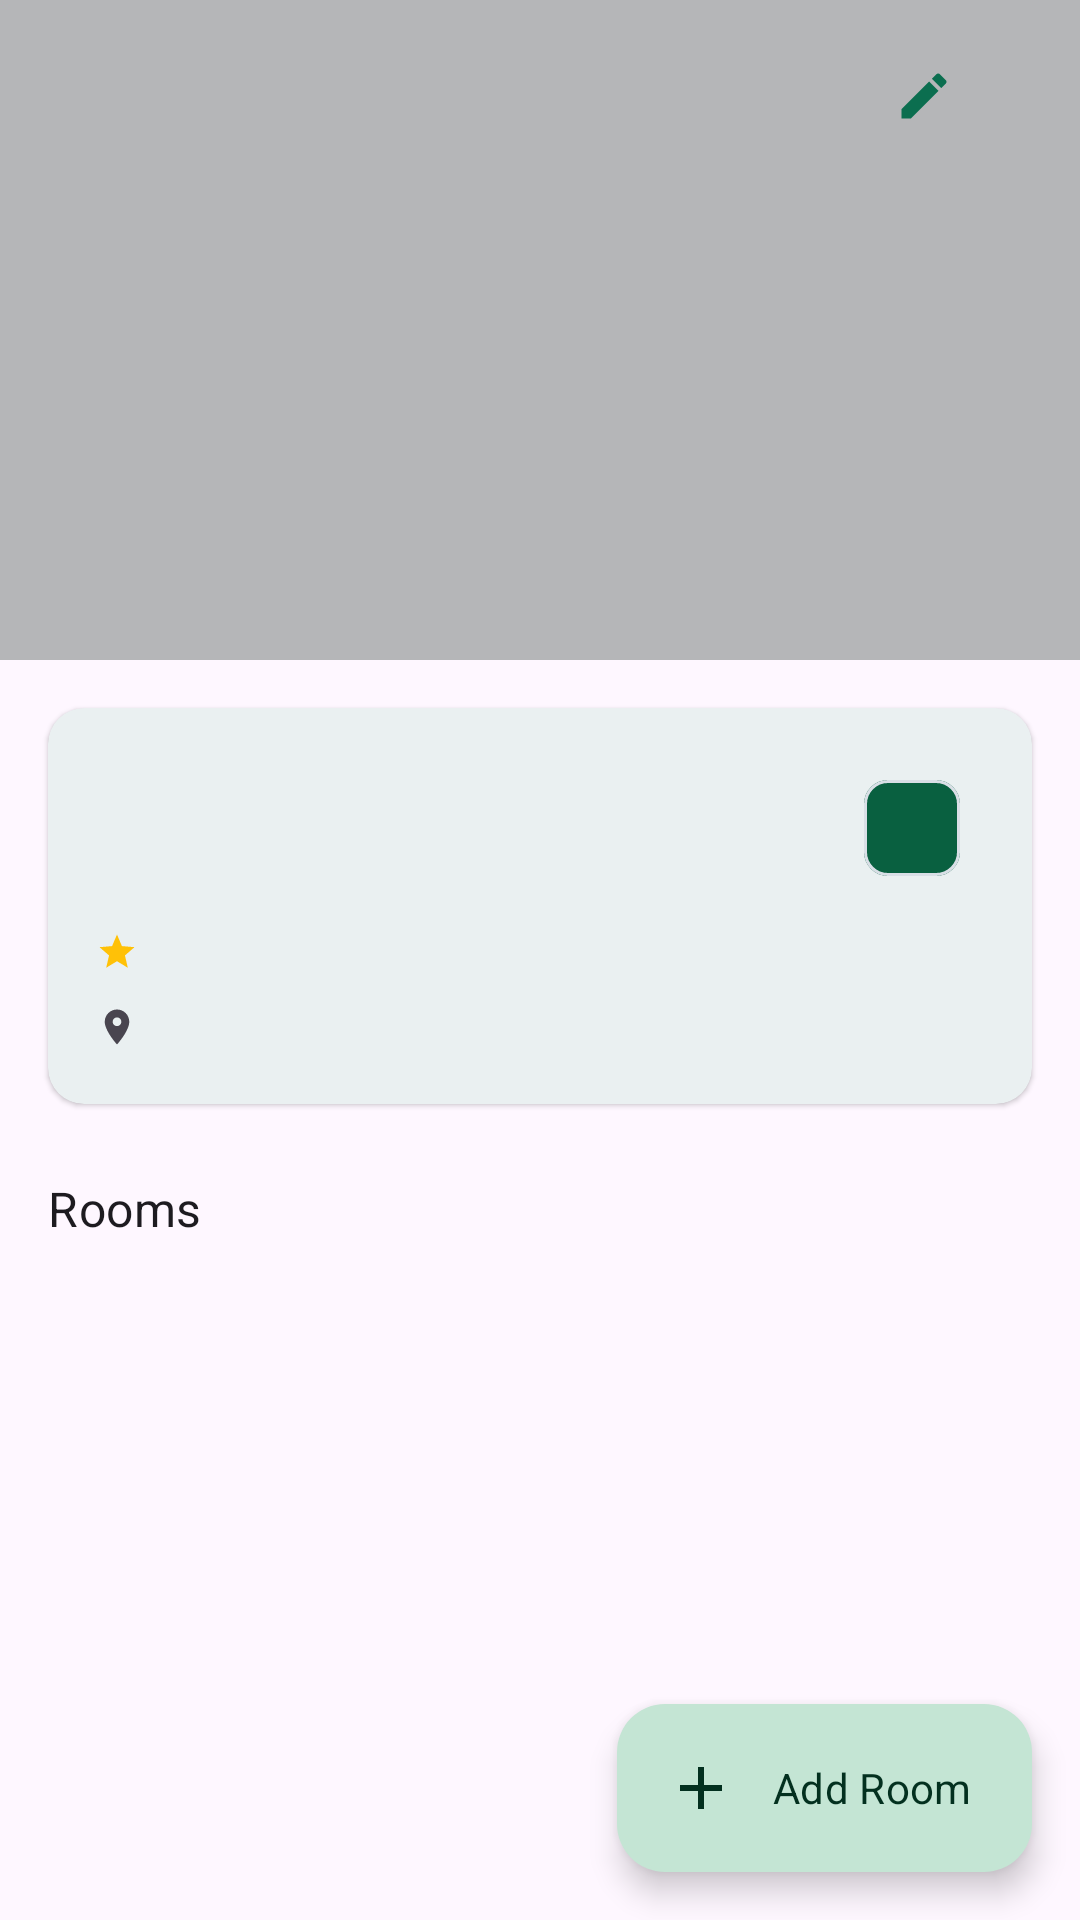

Where icons sit on this 1080*1920 app screen, as [left=x1, top=y1, right=x2, bottom=y2]:
Edit Property: [left=901, top=73, right=947, bottom=119]
location: [left=104, top=1009, right=130, bottom=1044]
star: [left=100, top=935, right=134, bottom=968]
